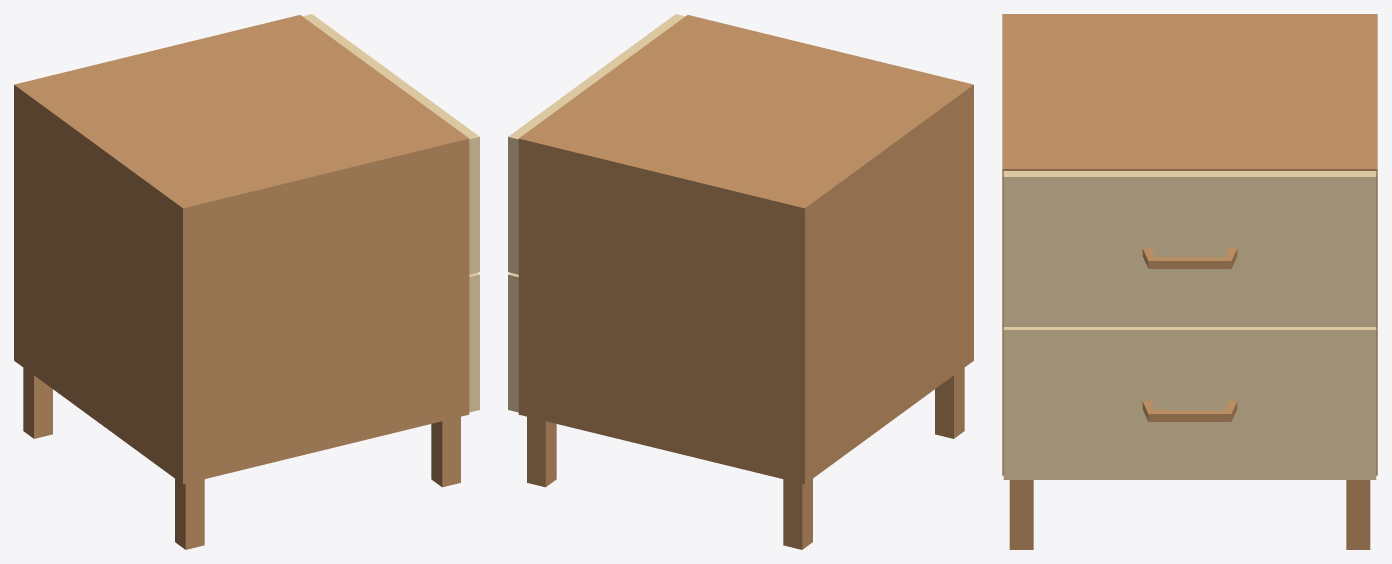
File: nightstand_1.fbx
The picture shows the model from 3 angles, left to right: view 1: azimuth 30°, elevation 25°; view 2: azimuth 150°, elevation 25°; view 3: azimuth 270°, elevation 25°; orthographic projection. The views are drawn at different scales.
Visible parts, largest first — view 1: Cube, Cube.003, Cube.002; view 2: Cube, Cube.003, Cube.002; view 3: Cube.002, Cube, Cube.003, Cube.001.
Boxes of the visible parts, x1,y1,x2,y2 form: Cube: (14, 15, 469, 484); Cube.003: (23, 368, 460, 549); Cube.002: (303, 14, 479, 412); Cube: (518, 15, 973, 484); Cube.003: (527, 368, 964, 549); Cube.002: (508, 14, 684, 412); Cube.002: (1003, 171, 1376, 479); Cube: (1002, 14, 1377, 475); Cube.003: (1009, 480, 1370, 549); Cube.001: (1142, 248, 1237, 421).
Bounding box in the file's own units: 220 × 225 × 200.
